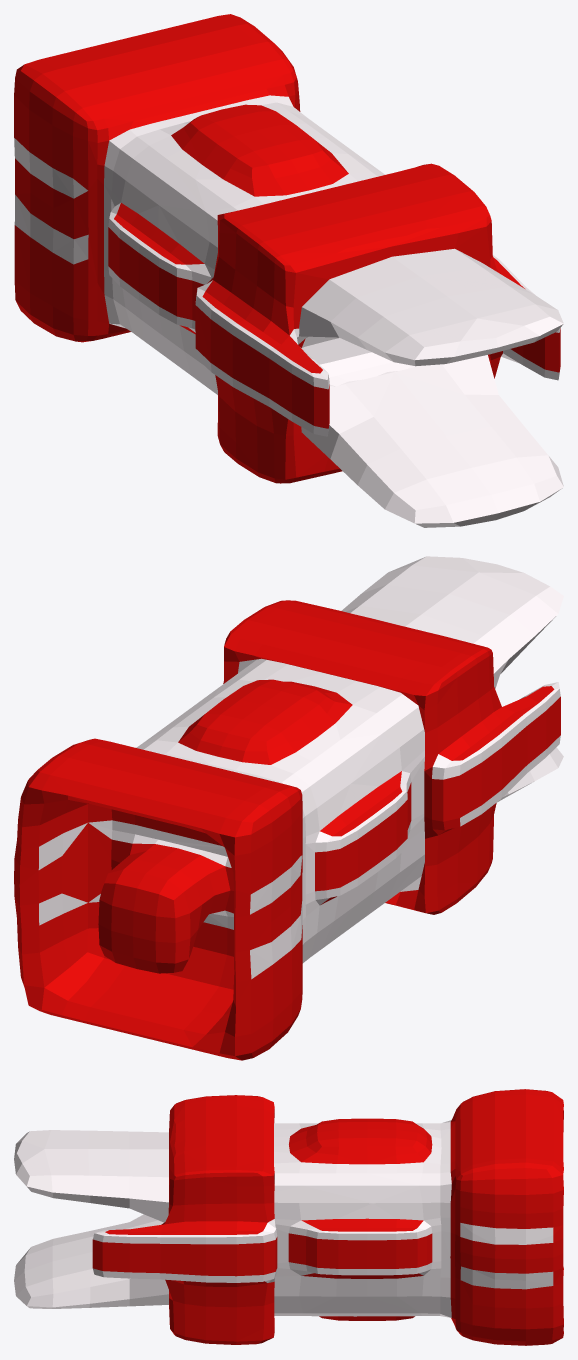
Rendered from Medicgun.fbx.
3 renders of one model, top to bottom at view 1: azimuth 30°, elevation 25°; view 2: azimuth 150°, elevation 25°; view 3: azimuth 270°, elevation 25°, orthographic. The views are drawn at different scales.
Visible parts, largest first — view 1: Cube; view 2: Cube; view 3: Cube.
Boxes of the visible parts, left/top/right/bottom form: Cube: left=14, top=14, right=563, bottom=527; Cube: left=14, top=556, right=563, bottom=1060; Cube: left=14, top=1089, right=563, bottom=1345.
Bounding box in the file's own units: 143 × 128 × 345.
